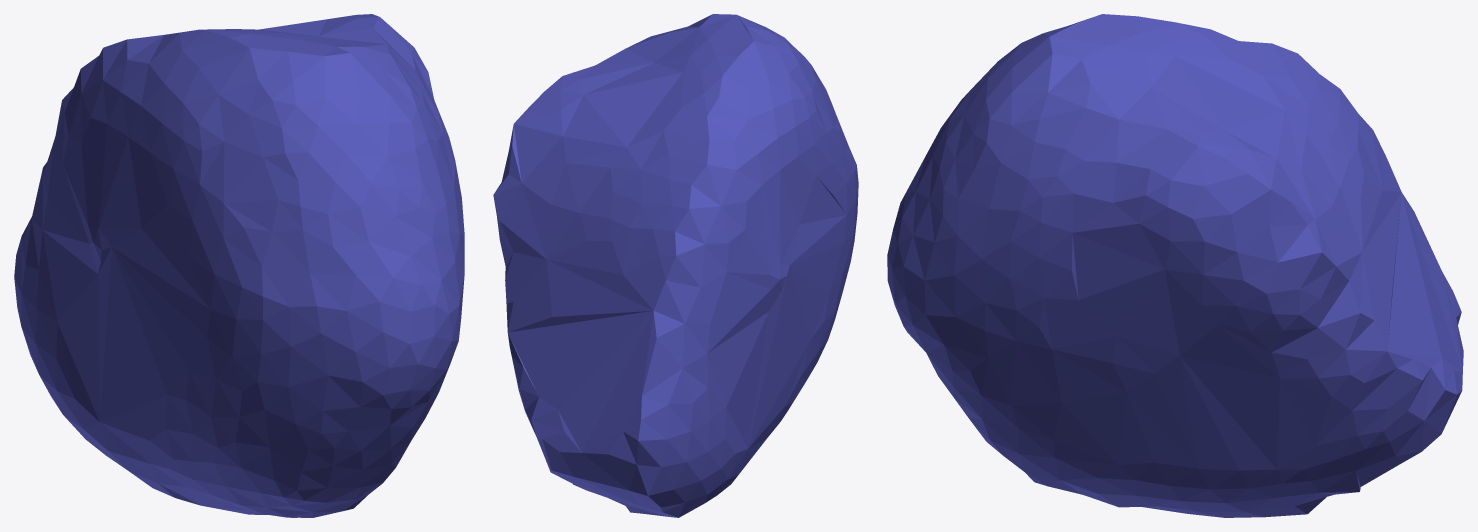
File: Model_356_RH__Dorsomedial_hypothalamic_nucleus_(DM).obj
3 renders of one model, left to right at view 1: azimuth 30°, elevation 25°; view 2: azimuth 150°, elevation 25°; view 3: azimuth 270°, elevation 25°, orthographic. The views are drawn at different scales.
Bounding box in the file's own units: 0.832 × 1.28 × 1.38.
